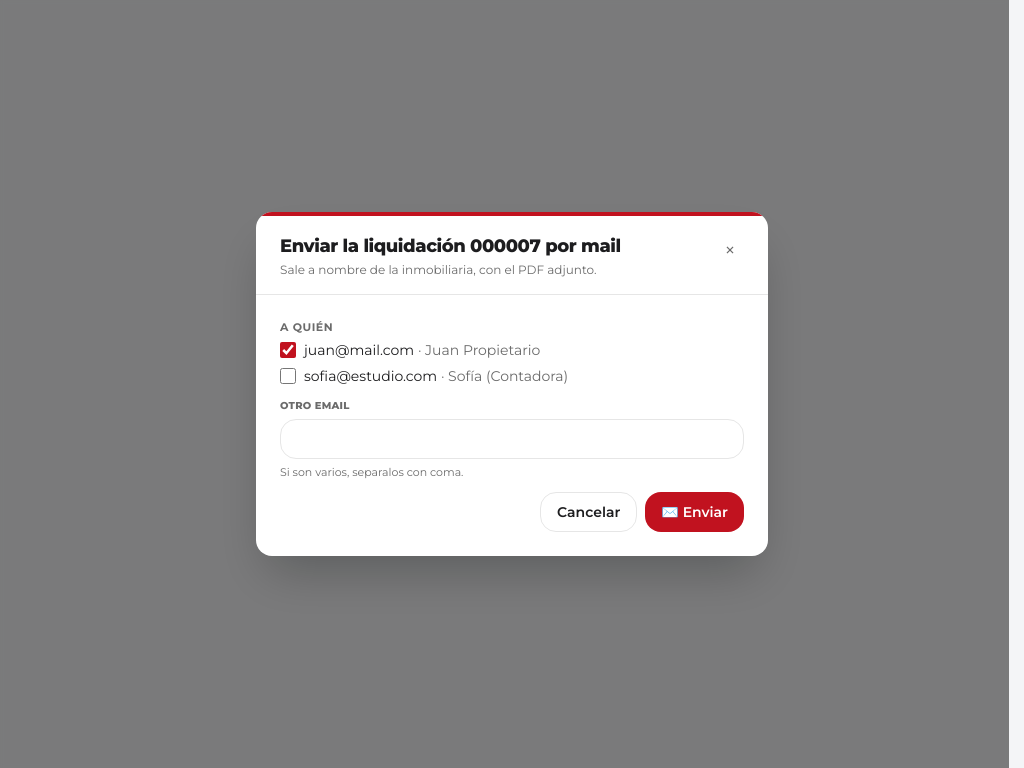
Ficha de la persona (punto 14) › mandar por mail propone el mail de la persona y de sus contactos
Expected: the checkbox labelled "juan@mail.com · Juan Propietario" is checked, [280,342,296,358]
What coordinates should you click on to do the following:
click the checkbox labelled "sofia@estudio.com · Sofía (Contadora)"
I would click on:
 (288, 376)
Its box is [280,368,296,384].
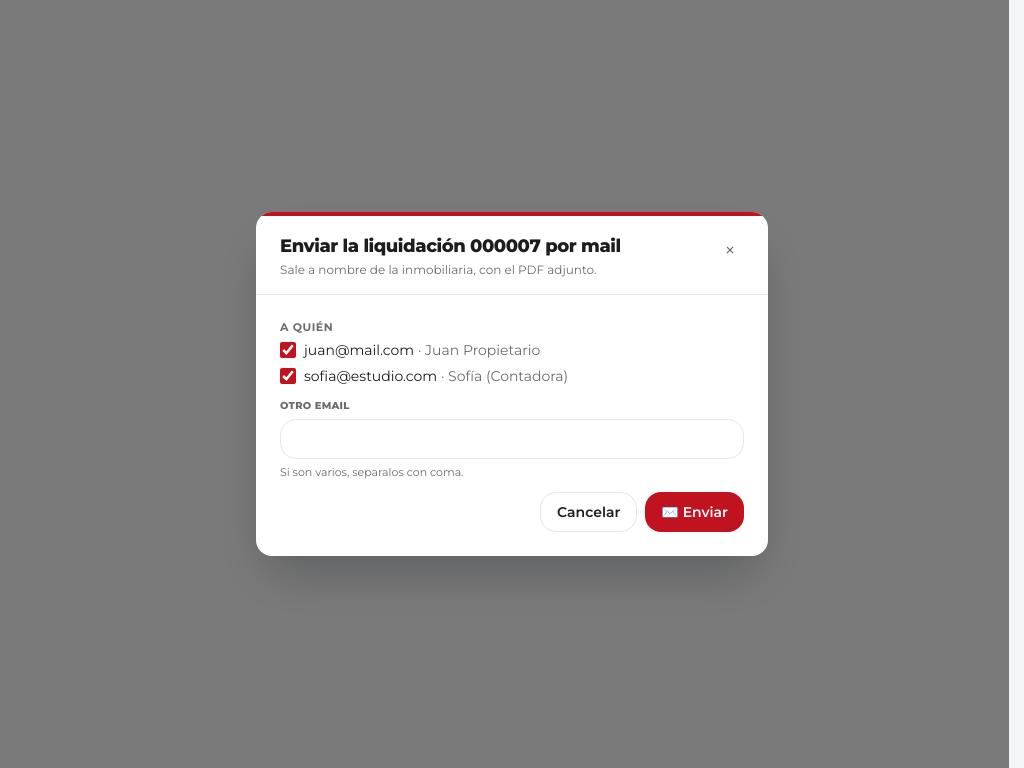
What coordinates should you click on to do the following:
click the button "✉️ Enviar"
I would click on:
 (695, 512)
Its box is [645,492,744,532].
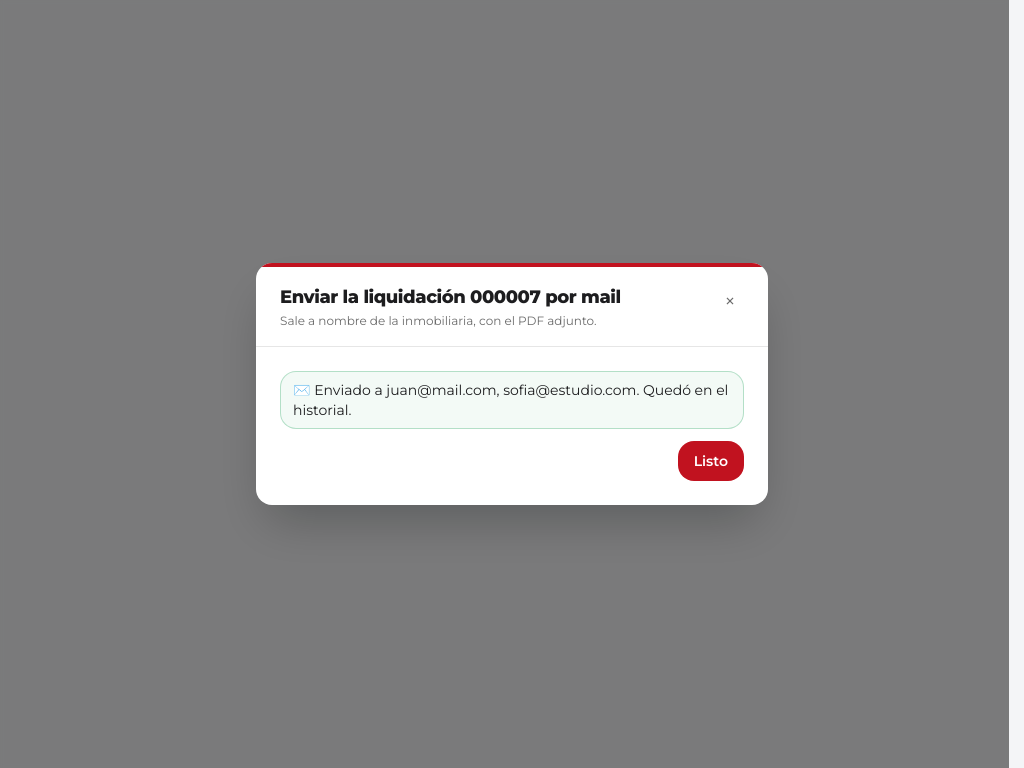
Now the message shows "Enviado a juan@mail.com, sofia@estudio.com", box [280,371,744,429]
